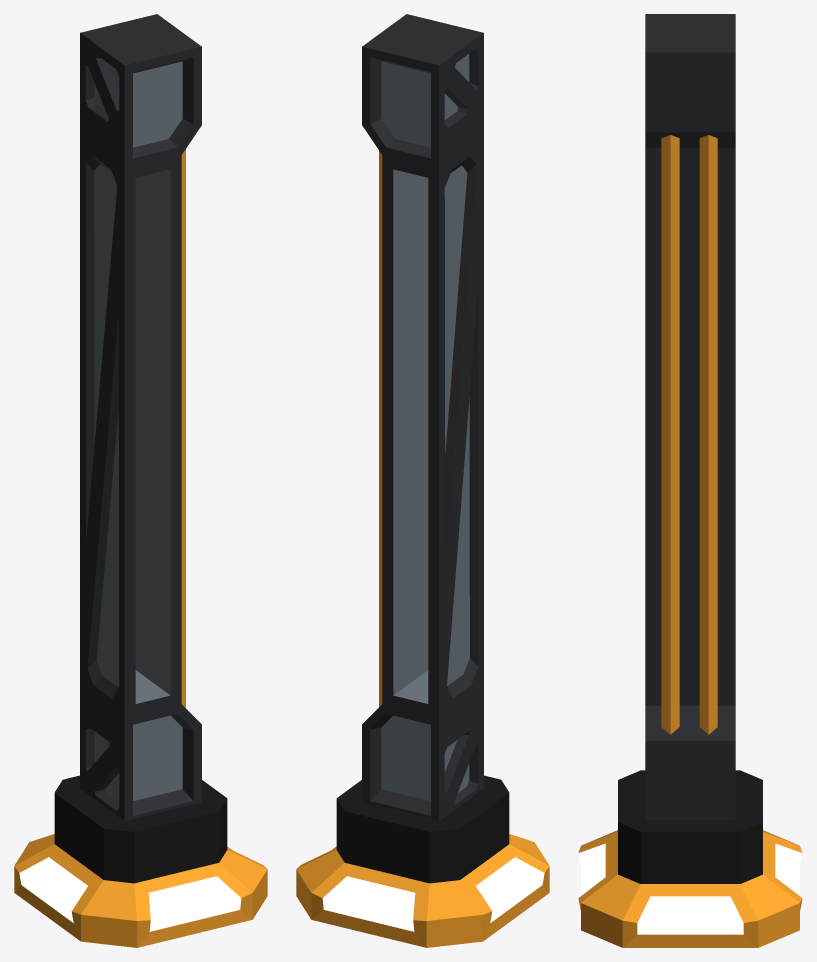
The model's file is SM_Pillar_01.glb.
3 renders of one model, left to right at view 1: azimuth 30°, elevation 25°; view 2: azimuth 150°, elevation 25°; view 3: azimuth 270°, elevation 25°, orthographic.
Visible parts, largest first — view 1: SM_Pillar_01; view 2: SM_Pillar_01; view 3: SM_Pillar_01.
Part boxes in pixels (x1=…): SM_Pillar_01: x1=14, y1=14, x2=267, y2=947; SM_Pillar_01: x1=296, y1=14, x2=549, y2=947; SM_Pillar_01: x1=578, y1=14, x2=802, y2=947.
Bounding box in the file's own units: 1.05 × 4.49 × 1.05.
Materials: 2 (1 with a texture image).
